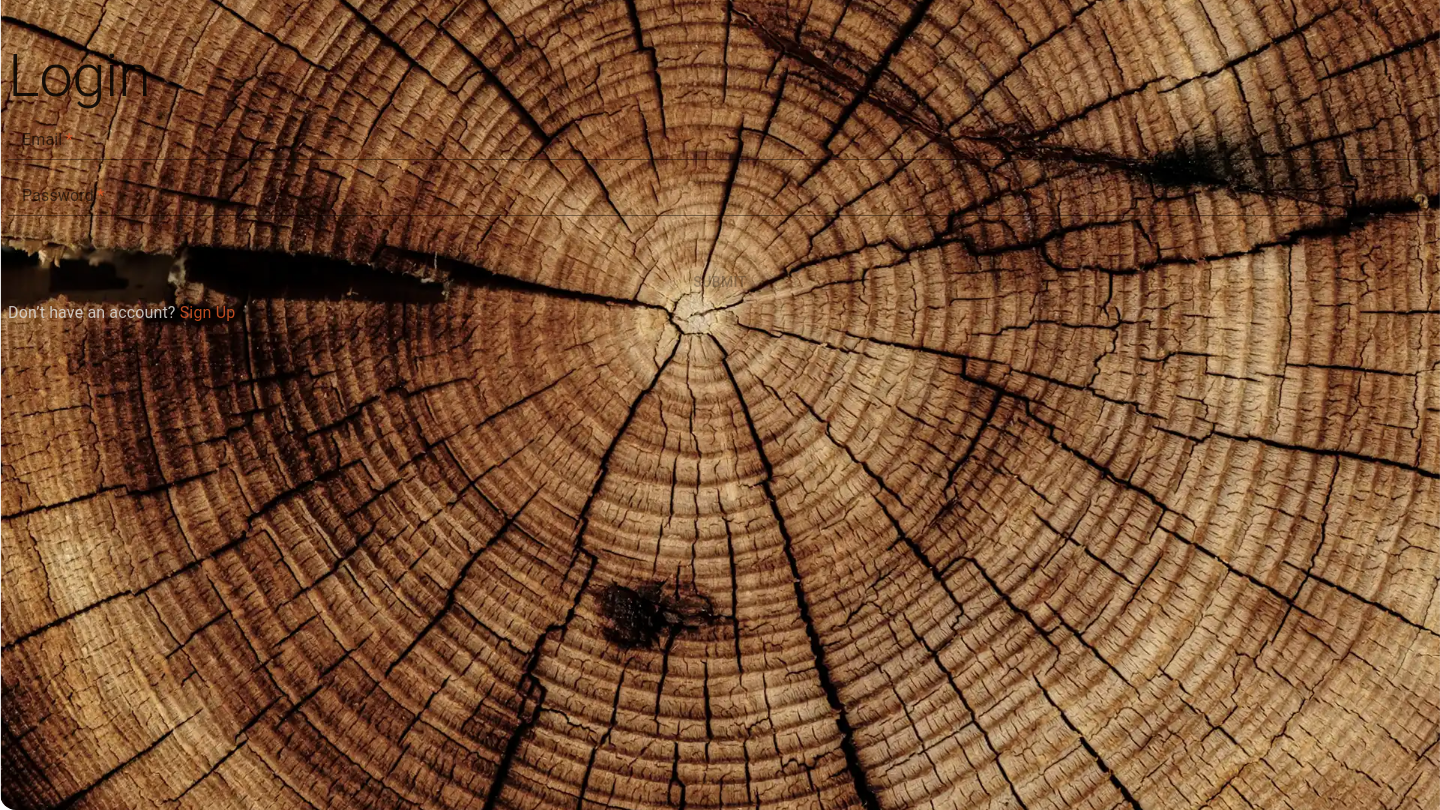
Test: LoginPage › enables submit button when form is valid
This screenshot has width=1440, height=810.
Type "test@gmail.com" into the field labelled "Email *" at (716, 144), box [8,128,1424,160]
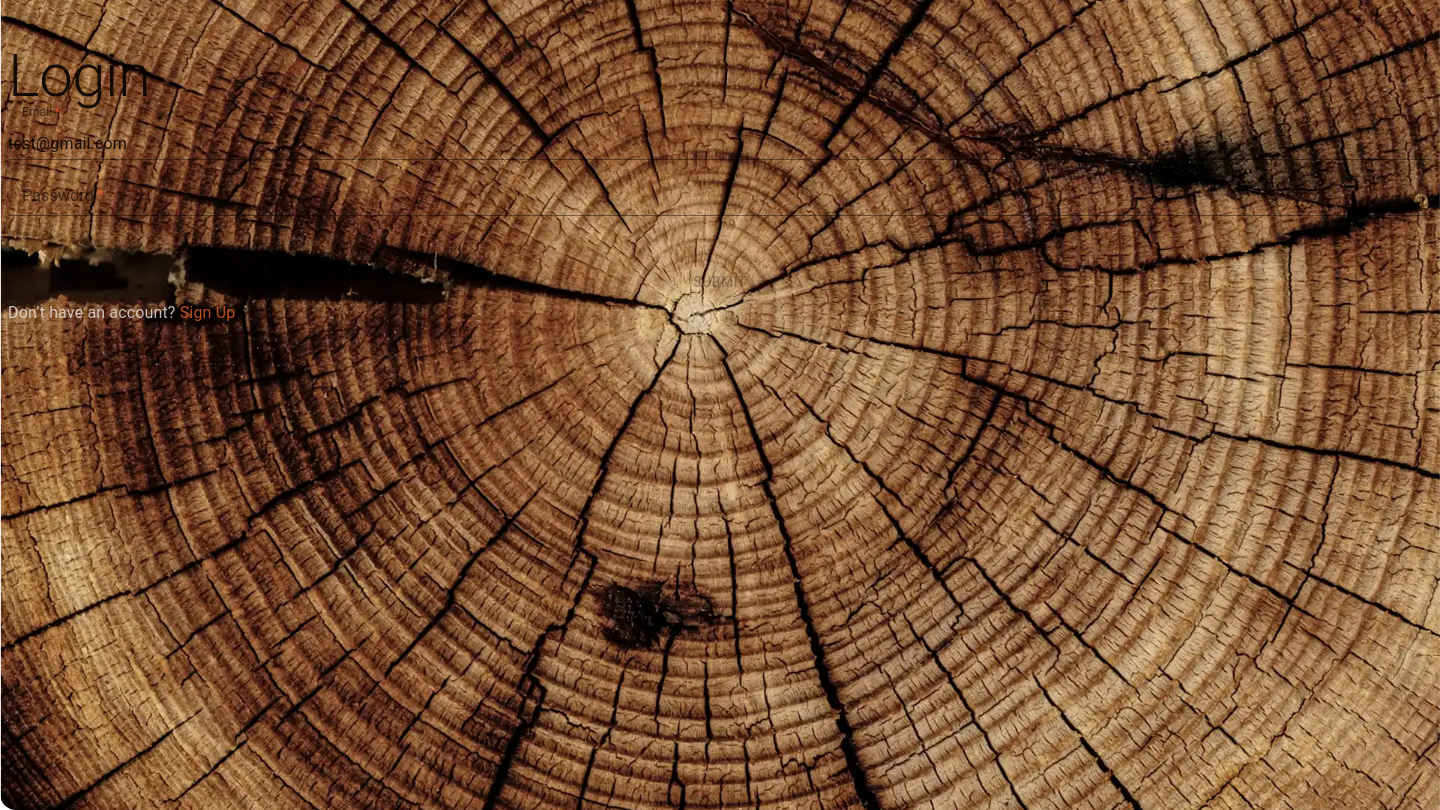
Type "Test123!" into the password field labelled "Password *" at (704, 200), box [8,184,1400,216]
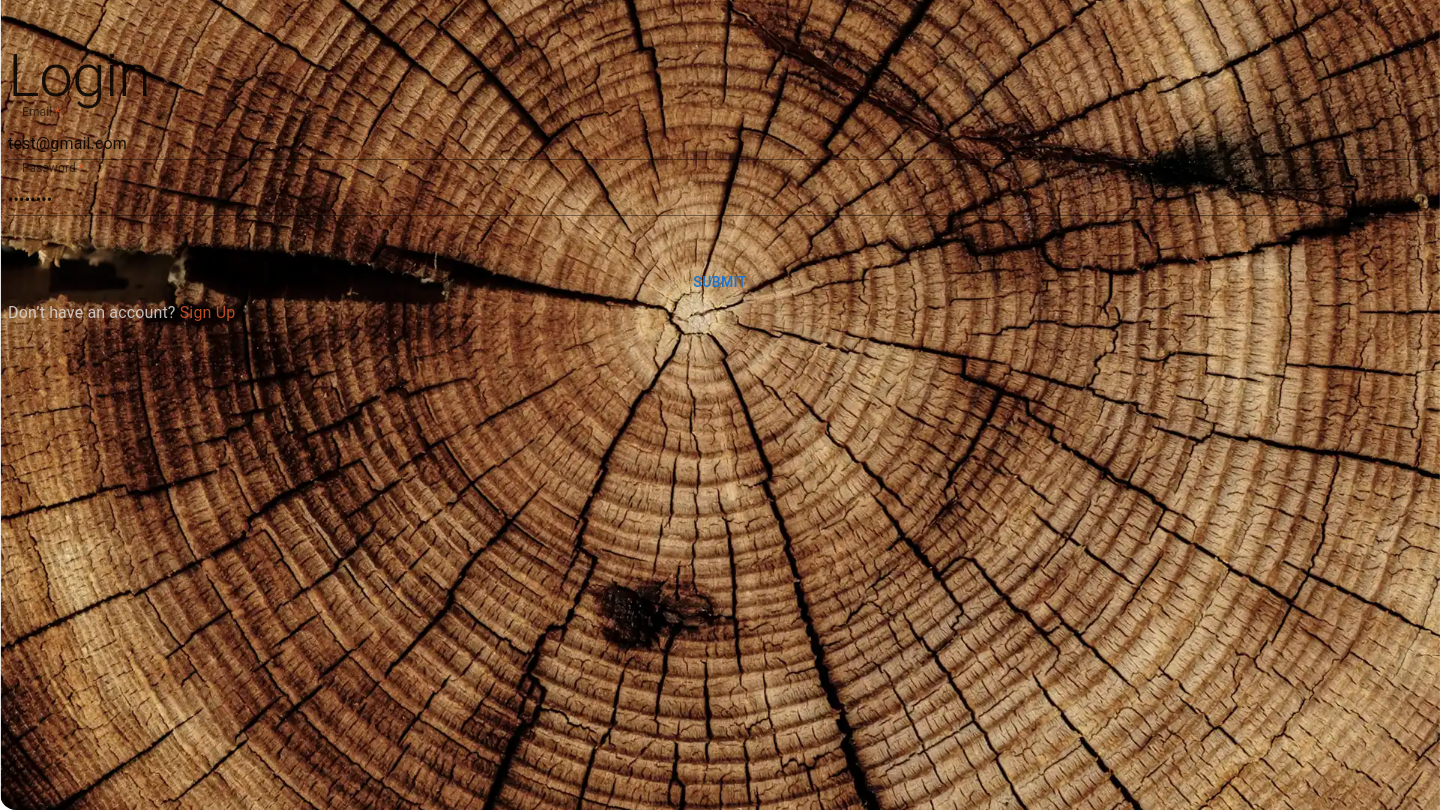
Expected: the button "Submit" is enabled, [8,264,1432,300]
